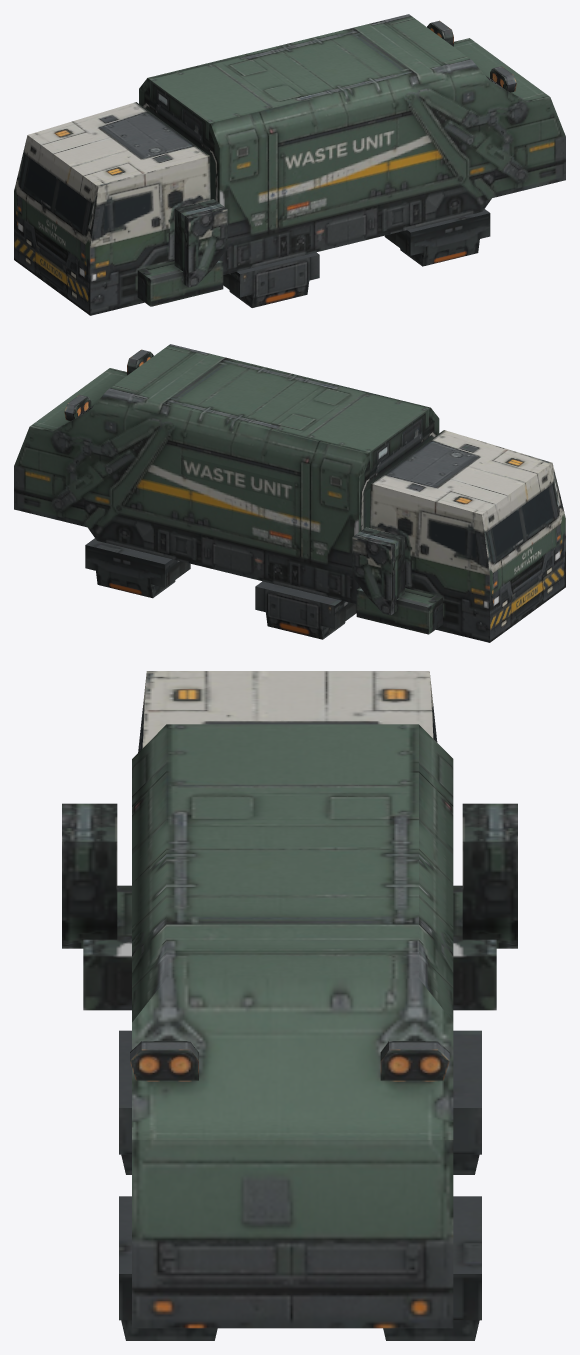
Rendered from CP_Air_Traffic_Garbage_Truck.fbx.
The picture shows the model from 3 angles, top to bottom: view 1: azimuth 30°, elevation 25°; view 2: azimuth 150°, elevation 25°; view 3: azimuth 270°, elevation 25°; orthographic projection. The views are drawn at different scales.
Parts seen in each view (by area): view 1: CP_Air_Traffic_Garbage_Truck; view 2: CP_Air_Traffic_Garbage_Truck; view 3: CP_Air_Traffic_Garbage_Truck.
Part boxes in pixels (bbox=[...]): CP_Air_Traffic_Garbage_Truck: bbox=[14, 14, 565, 315]; CP_Air_Traffic_Garbage_Truck: bbox=[14, 344, 565, 642]; CP_Air_Traffic_Garbage_Truck: bbox=[62, 671, 517, 1340].
Size of the model in its own units: 834 by 309 by 348.
